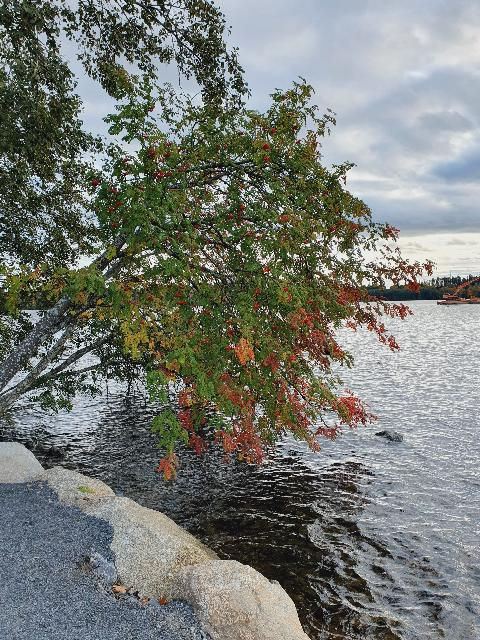rowan: (0, 70, 442, 488)
